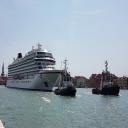cruises: (6, 43, 64, 94)
